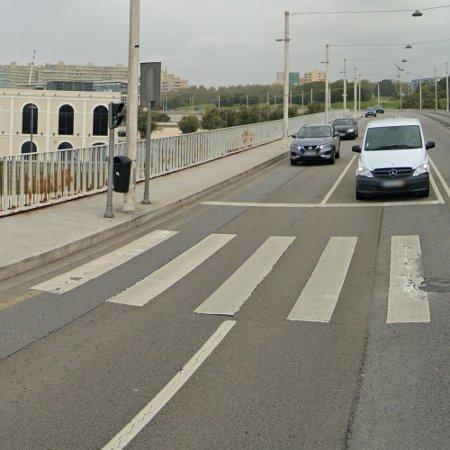crosswalks: (28, 229, 432, 324)
